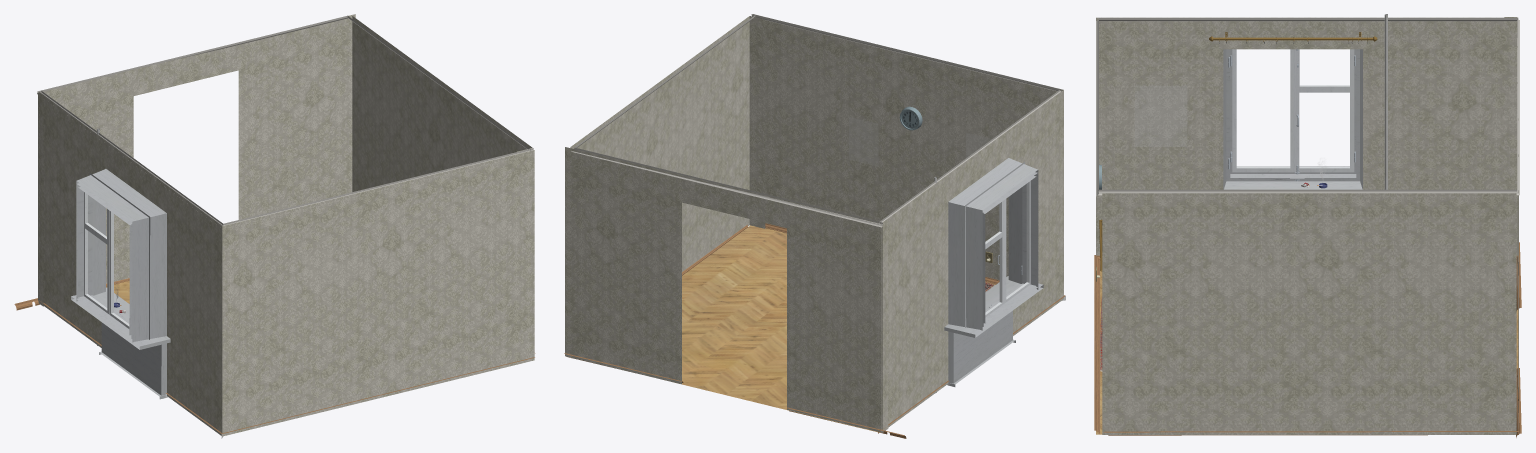
File: NewRoom.glb
The picture shows the model from 3 angles, left to right: view 1: azimuth 30°, elevation 25°; view 2: azimuth 150°, elevation 25°; view 3: azimuth 270°, elevation 25°; orthographic projection. The views are drawn at different scales.
Visible parts, largest first — view 1: Plane, Plane_Wallpaper_0.001, Plane_Wallpaper_0.002, Plane.001, Plane.052, Plane.052_UpFloor_0.001, Cube_Plaster_0, Plane.008, Plane.009; view 2: Plane, Plane_Wallpaper_0.001, Plane_Wallpaper_0.002, Plane.001, Plane.052_UpFloor_0.001, Plane.052, Plane.047, Cube_Plaster_0, Plane.009, Plane.008; view 3: Plane_Wallpaper_0.002, Plane, Plane.039, Plane.001, Plane.052_UpFloor_0.001, Plane.052, Plane.008, Plane.009, Cube_Plaster_0, Plane.011, Plane.011_PlankWood_0.001, Cylinder.001 (+2 smaller).
Part boxes in pixels (x1,y1,x2,y2): Plane: (39, 92, 534, 436); Plane_Wallpaper_0.001: (38, 14, 355, 306); Plane_Wallpaper_0.002: (352, 16, 532, 191); Plane.001: (76, 173, 150, 339); Plane.052: (41, 91, 533, 225); Plane.052_UpFloor_0.001: (37, 15, 530, 150); Cube_Plaster_0: (71, 287, 170, 349); Plane.008: (84, 192, 109, 314); Plane.009: (109, 210, 129, 328); Plane: (682, 14, 1063, 432); Plane_Wallpaper_0.001: (565, 147, 888, 432); Plane_Wallpaper_0.002: (570, 16, 765, 271); Plane.001: (965, 162, 1038, 327); Plane.052_UpFloor_0.001: (571, 15, 882, 227); Plane.052: (751, 14, 1061, 223); Plane.047: (849, 117, 878, 166); Cube_Plaster_0: (944, 276, 1043, 337); Plane.009: (1004, 181, 1030, 303); Plane.008: (985, 200, 1004, 317); Plane_Wallpaper_0.002: (1102, 193, 1516, 434); Plane: (1096, 17, 1518, 434); Plane.039: (1135, 86, 1186, 146); Plane.001: (1226, 49, 1359, 181); Plane.052_UpFloor_0.001: (1098, 20, 1519, 195); Plane.052: (1096, 18, 1517, 196); Plane.008: (1296, 49, 1354, 172); Plane.009: (1232, 49, 1293, 172); Cube_Plaster_0: (1224, 181, 1362, 189); Plane.011: (1094, 255, 1099, 433); Plane.011_PlankWood_0.001: (1103, 431, 1518, 435); Cylinder.001: (1384, 14, 1387, 189).
Size of what is drawn, in the model's own units: 198 by 117 by 183.
44 materials, 28 textured.
